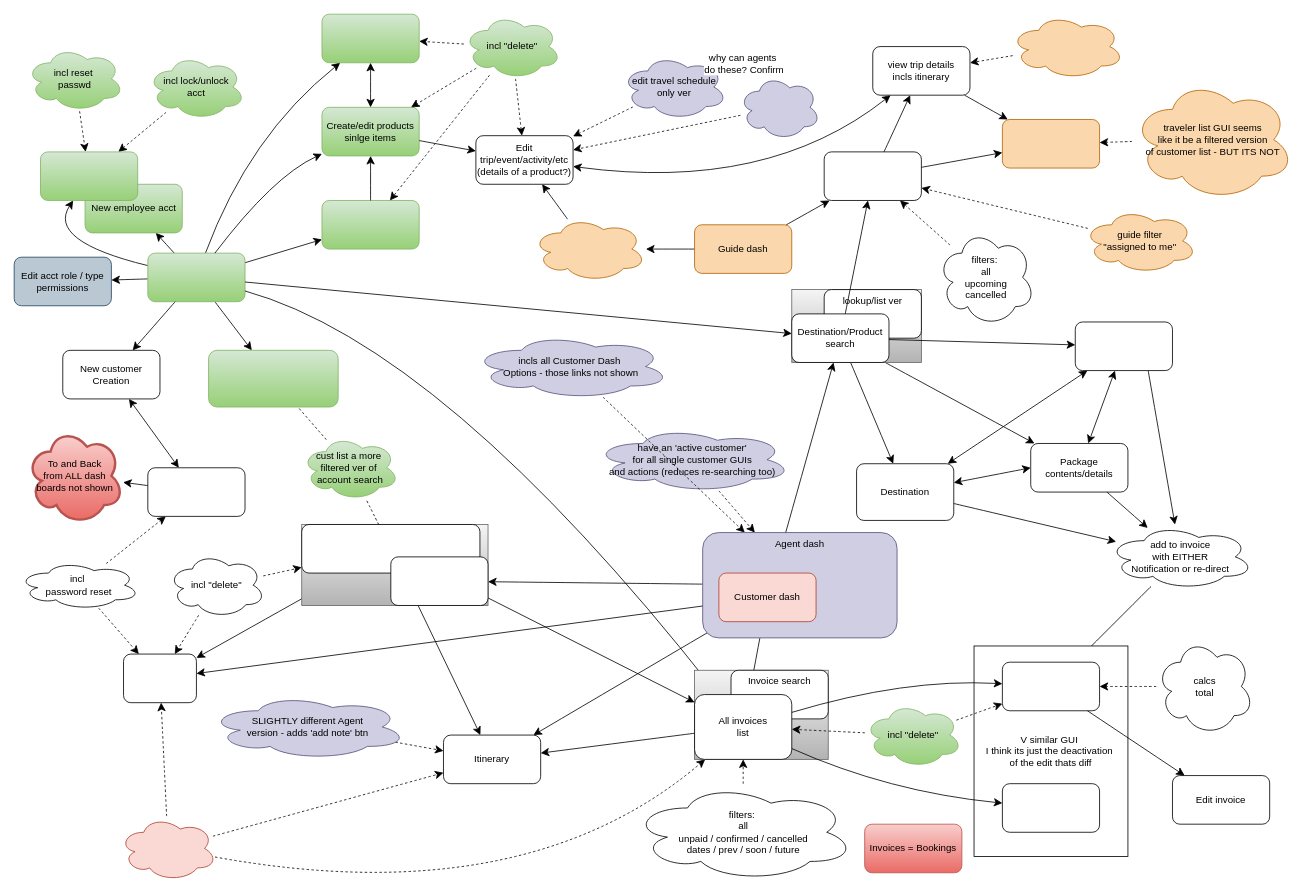
This 1308x895 diagram has some shape labels left out. Here are the shapes that lost their labels. From the top down, the centre of each, then its label:
the point at 370,38: create edit travel packages
the point at 1067,46: SLIGHTLY different guide ver - 'add note'
the point at 779,107: edit trip details only ver
the point at 1051,143: taveller list
the point at 89,175: Edit employee acct
the point at 872,175: all trips view
the point at 370,224: Create/edit destination
the point at 589,248: edit schedule & status only version
the point at 196,277: Admin dash
the point at 1123,346: Indiv product details
the point at 273,378: Account search (employees & customers)
the point at 196,491: Login
the point at 390,548: All Customers List view
the point at 439,580: Customer search
the point at 159,678: view / edit customer profile
the point at 1051,686: “Cart” or “invoice” or “po” (unconfirmed)
the point at 1051,807: Confirmed & historical invoice detail
the point at 168,848: always on 'only me' filter
